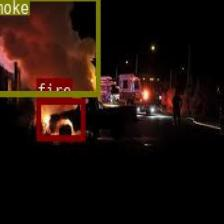fire: (36, 98, 84, 139)
smoke: (0, 0, 99, 95)
